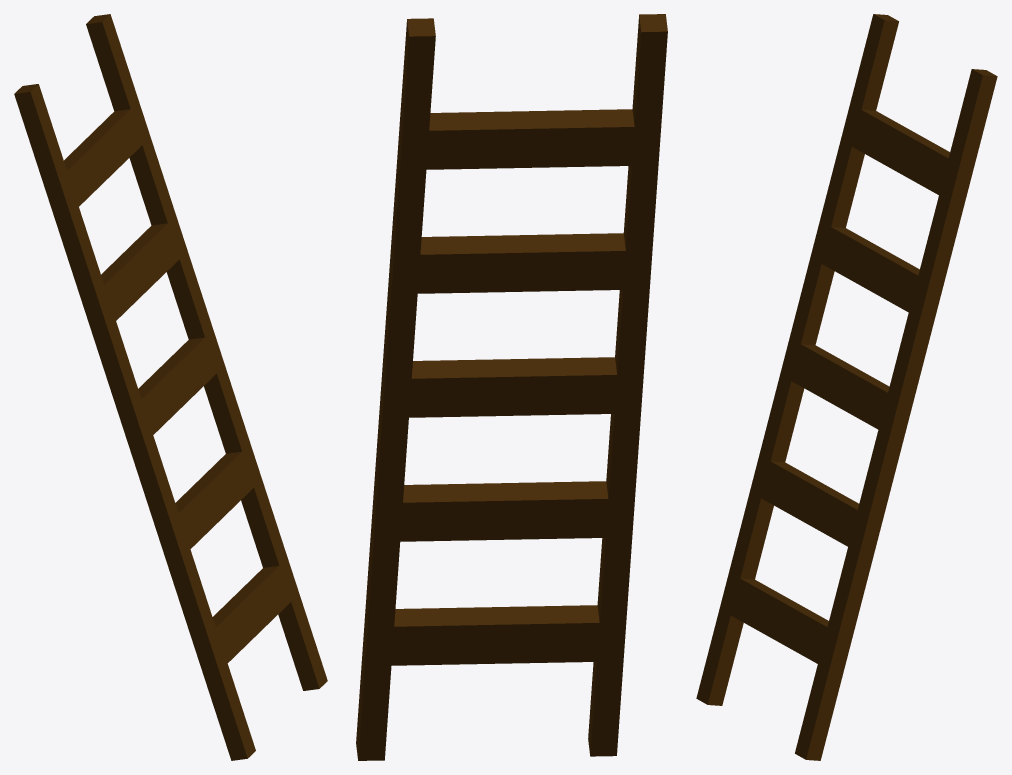
File: ladder.fbx
3 views of the same model, side by side, from view 1: azimuth 30°, elevation 25°; view 2: azimuth 150°, elevation 25°; view 3: azimuth 270°, elevation 25° (orthographic). The views are drawn at different scales.
Parts seen in each view (by area): view 1: sadari; view 2: sadari; view 3: sadari.
Part boxes in pixels (x1,y1,x2,y2): sadari: [14, 14, 327, 760]; sadari: [356, 14, 667, 760]; sadari: [696, 14, 997, 760].
Bounding box in the file's own units: 0.0461 × 0.1039 × 0.0448.
